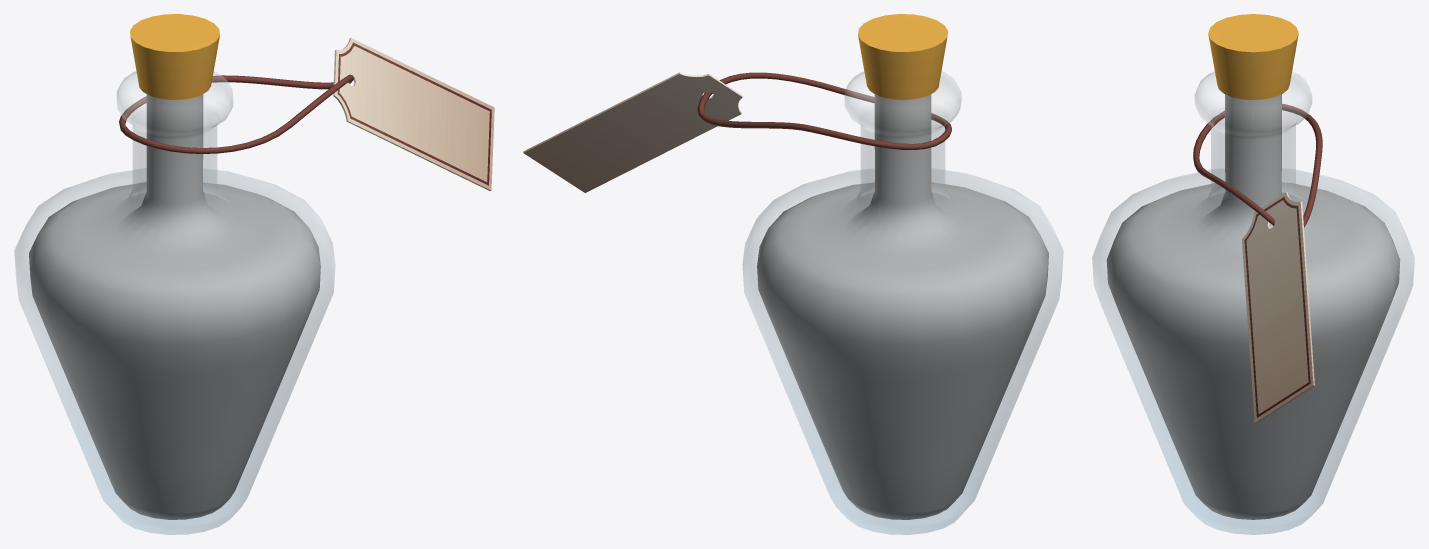
The model's file is truthPotion.fbx.
3 renders of one model, left to right at view 1: azimuth 30°, elevation 25°; view 2: azimuth 150°, elevation 25°; view 3: azimuth 270°, elevation 25°, orthographic.
Parts seen in each view (by area): view 1: truthPotion, truthPotionFill; view 2: truthPotion, truthPotionFill; view 3: truthPotion, truthPotionFill.
Boxes of the visible parts, bbox=[...] form: truthPotion: bbox=[14, 14, 494, 534]; truthPotionFill: bbox=[29, 94, 320, 519]; truthPotion: bbox=[523, 14, 1063, 534]; truthPotionFill: bbox=[757, 94, 1048, 519]; truthPotion: bbox=[1092, 14, 1414, 534]; truthPotionFill: bbox=[1106, 94, 1400, 519].
Bounding box in the file's own units: 0.4863 × 0.4581 × 0.2778.
